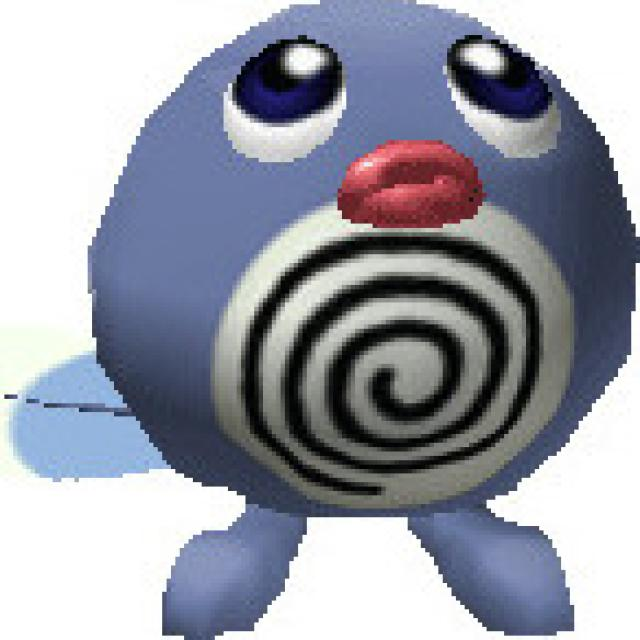Poliwag: (88, 0, 640, 562)
